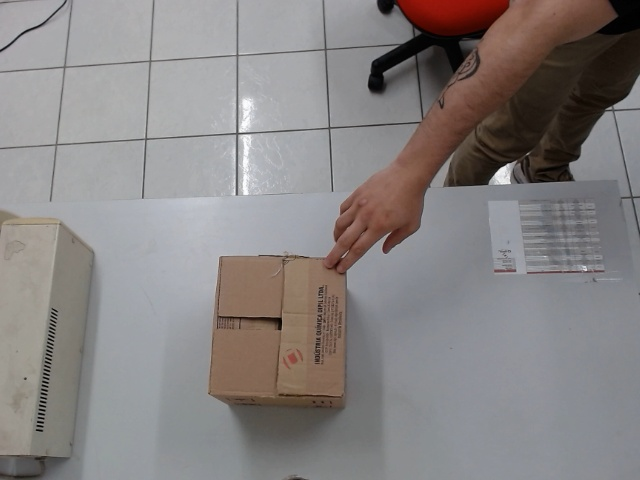caixa_principal: (208, 249, 353, 408)
